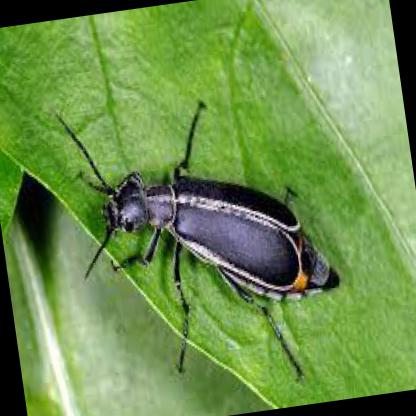blister beetle: (58, 106, 342, 372)
